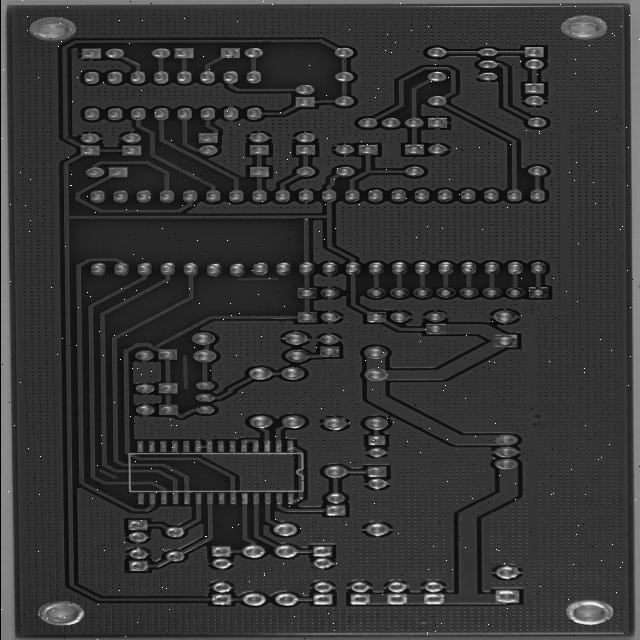spurious_copper: (125, 344, 156, 385), (192, 260, 248, 277), (38, 463, 71, 477)
